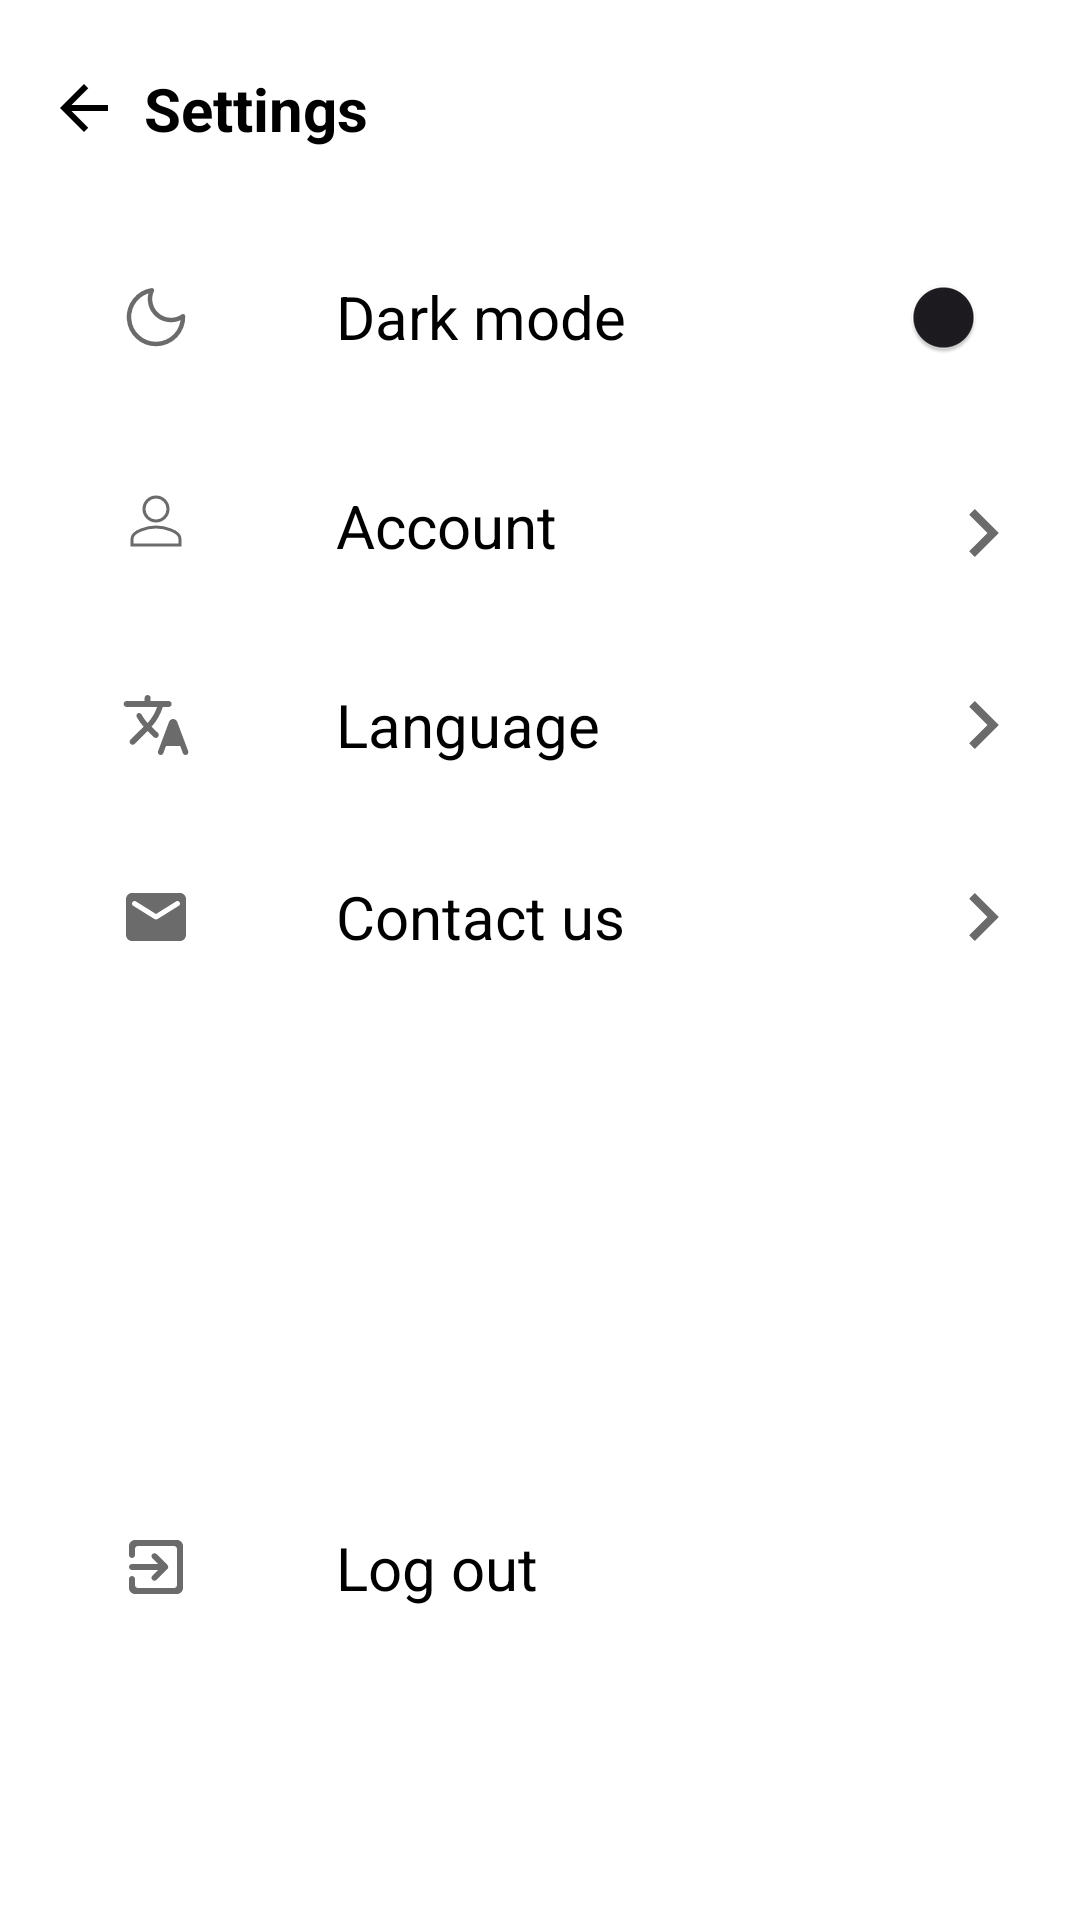

Icons on this 1080px x 1920px Android screen, each with its box as (x1, y1, x2, y2):
left arrow: (60, 84, 108, 132)
right arrow: (969, 509, 999, 557), (969, 701, 999, 749), (969, 893, 999, 941)
